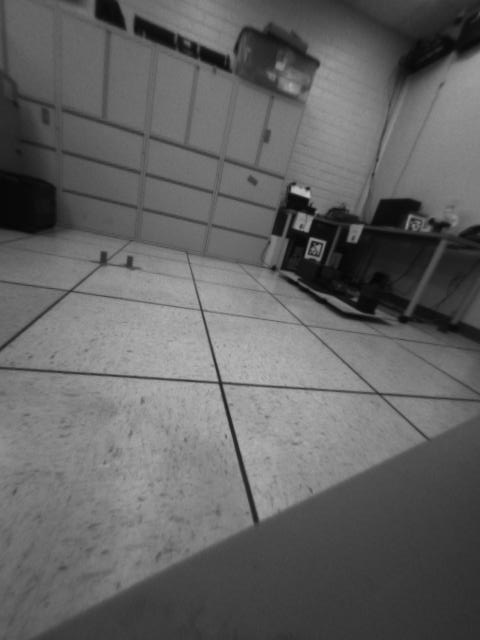X: (114, 254, 146, 273), (90, 249, 118, 270)
